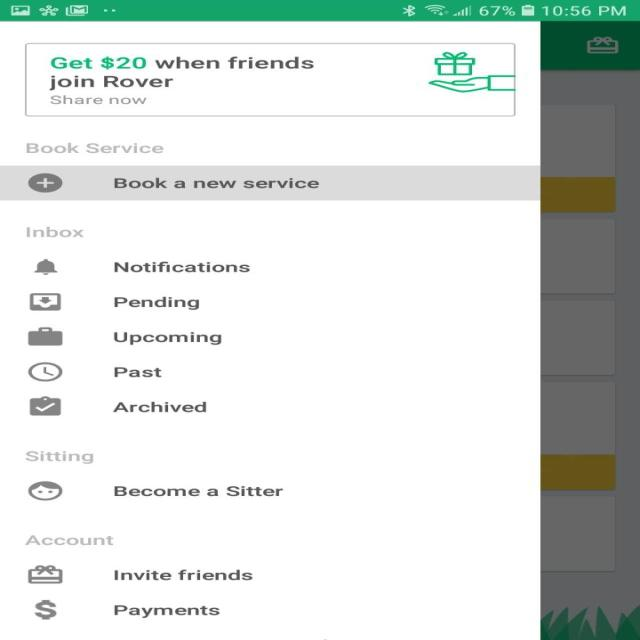Drawer: (0, 21, 540, 639)
Icon: (426, 52, 514, 93), (28, 564, 63, 584), (28, 326, 63, 346), (28, 362, 63, 381), (28, 173, 63, 192), (29, 396, 62, 415), (28, 292, 62, 310), (33, 599, 57, 619), (34, 258, 58, 276)
Image: (28, 480, 63, 500)
Text: (50, 56, 314, 69), (113, 177, 320, 189), (48, 75, 174, 91), (114, 486, 284, 496), (25, 142, 164, 154), (114, 569, 252, 581), (114, 261, 250, 273), (112, 331, 222, 345), (114, 605, 220, 618), (111, 400, 206, 413), (114, 296, 200, 310), (24, 534, 114, 546), (24, 450, 94, 464), (50, 94, 146, 104), (26, 227, 84, 237), (114, 367, 162, 378)
